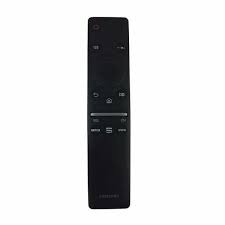remote control: (87, 14, 137, 219)
